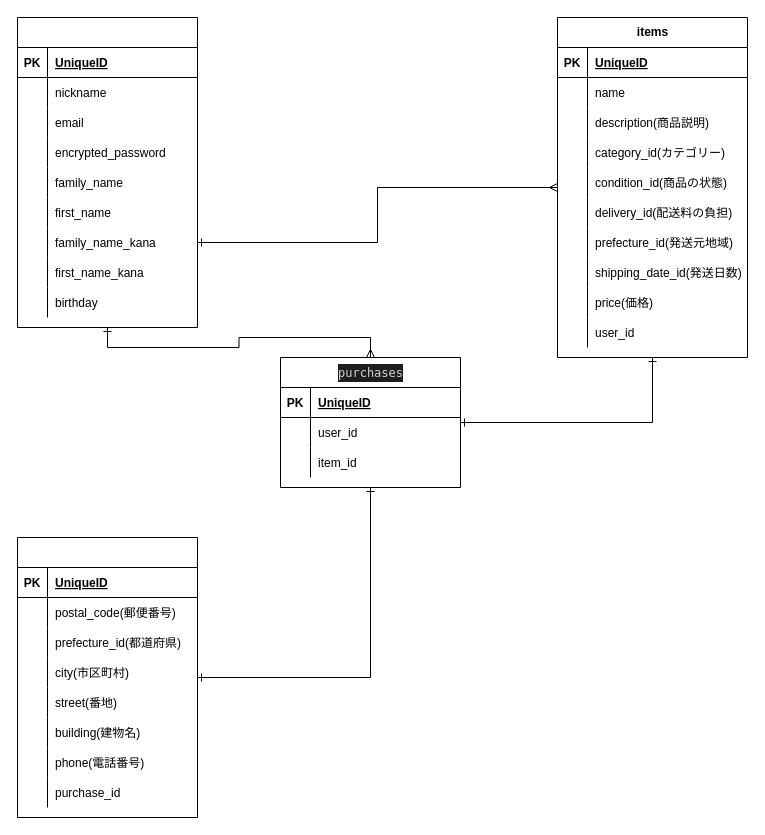
The diagram is 765 pixels wide and 835 high, and some of its shapes have lost their labels. The box of each missing label's shape, as (x1, y1, x2, y2) in pixels:
addresses: (16, 536, 198, 818)
users: (16, 16, 198, 328)
